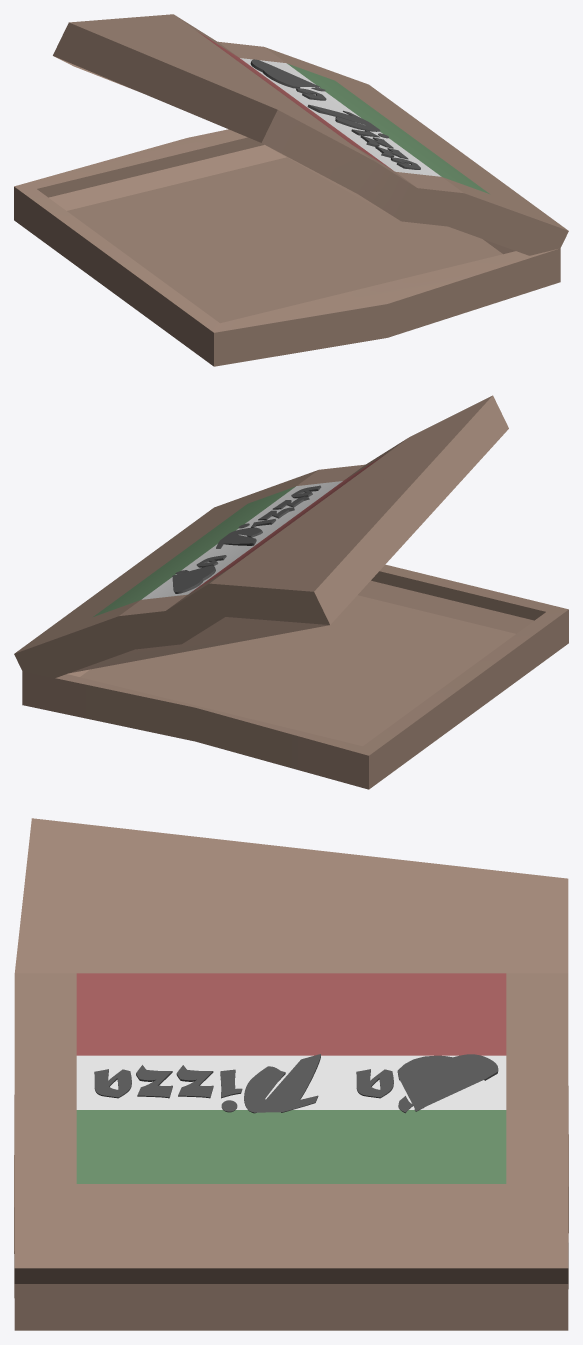
File: Pizza Box.fbx
3 renders of one model, top to bottom at view 1: azimuth 30°, elevation 25°; view 2: azimuth 150°, elevation 25°; view 3: azimuth 270°, elevation 25°, orthographic. The views are drawn at different scales.
Parts seen in each view (by area): view 1: polySurface18; view 2: polySurface18; view 3: polySurface18.
Boxes of the visible parts, x1,y1,x2,y2 form: polySurface18: [14, 14, 568, 366]; polySurface18: [14, 395, 568, 789]; polySurface18: [14, 818, 568, 1330].
Size of the model in its own units: 1.29 by 0.8624 by 1.26.
